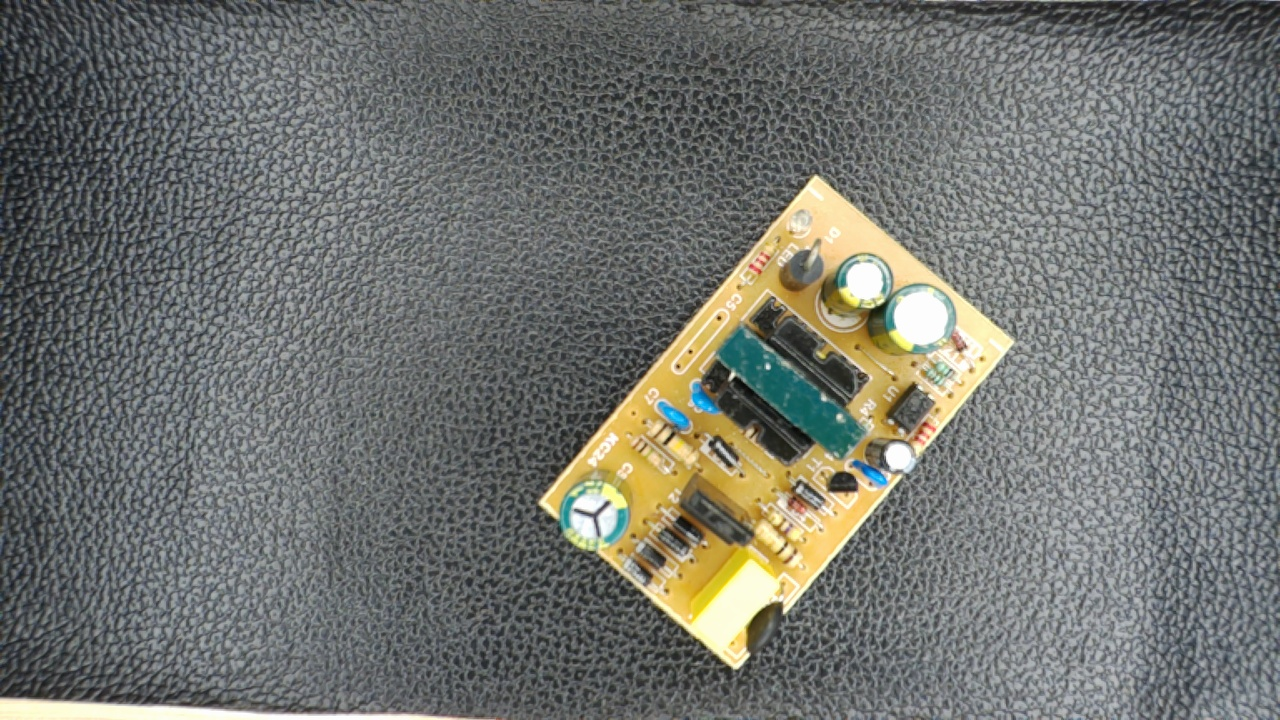fuse: (740, 587, 794, 663)
hv_capacitor: (552, 468, 632, 554)
optocoupler: (884, 380, 938, 437)
